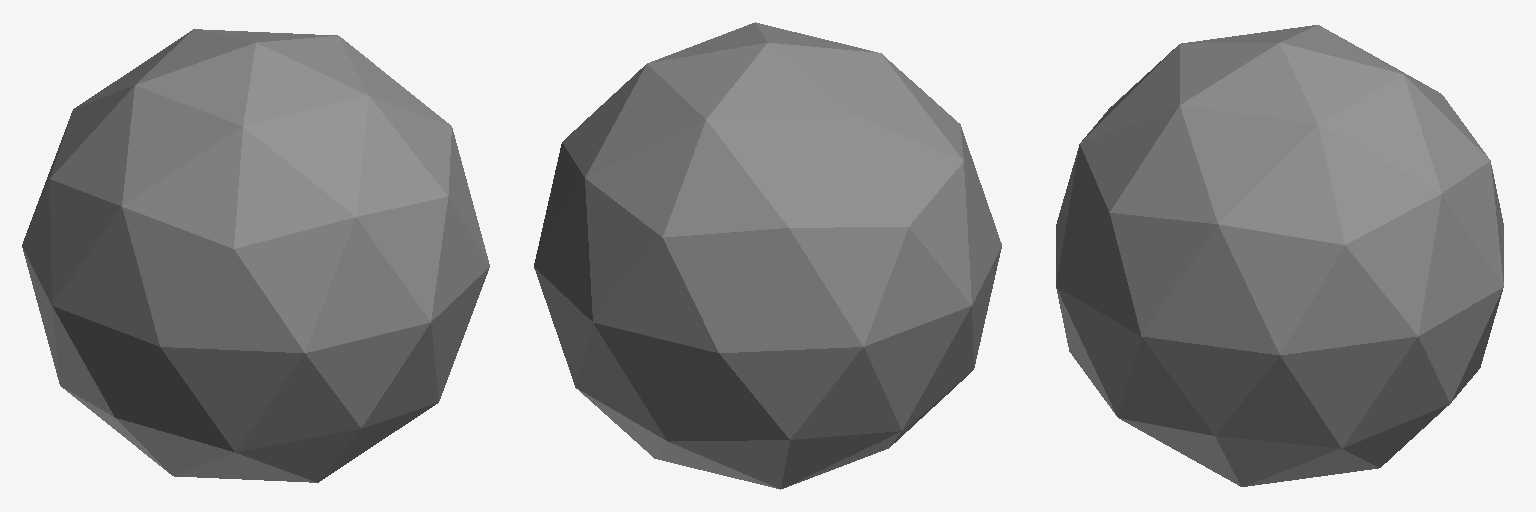
The model's file is SphereBlack.obj.
3 views of the same model, side by side, from view 1: azimuth 30°, elevation 25°; view 2: azimuth 150°, elevation 25°; view 3: azimuth 270°, elevation 25° (orthographic).
Parts seen in each view (by area): view 1: SkySphere; view 2: SkySphere; view 3: SkySphere.
Boxes of the visible parts, x1,y1,x2,y2 form: SkySphere: [22, 29, 489, 482]; SkySphere: [534, 22, 1001, 489]; SkySphere: [1056, 25, 1503, 486].
Size of the model in its own units: 2000 by 2000 by 1902.